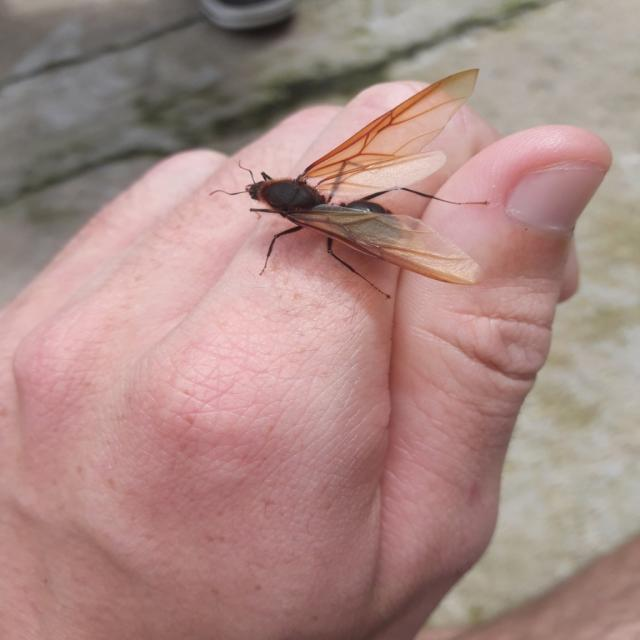Alive-Male-Alate: (208, 68, 489, 300)
